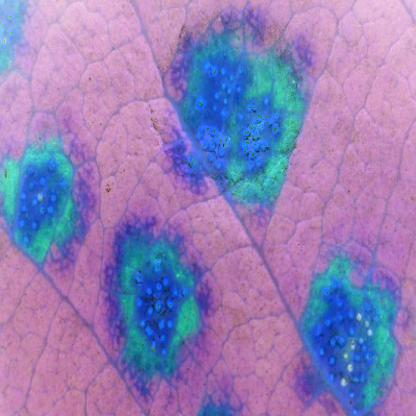apple rust leaf: (2, 2, 407, 415)
